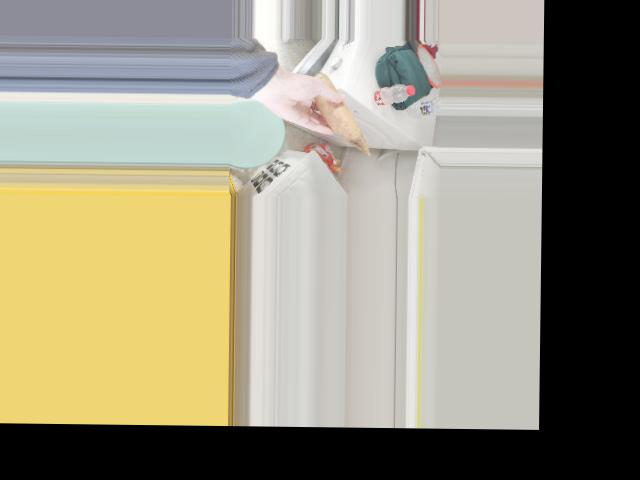sweet_potato: (305, 75, 351, 127)
